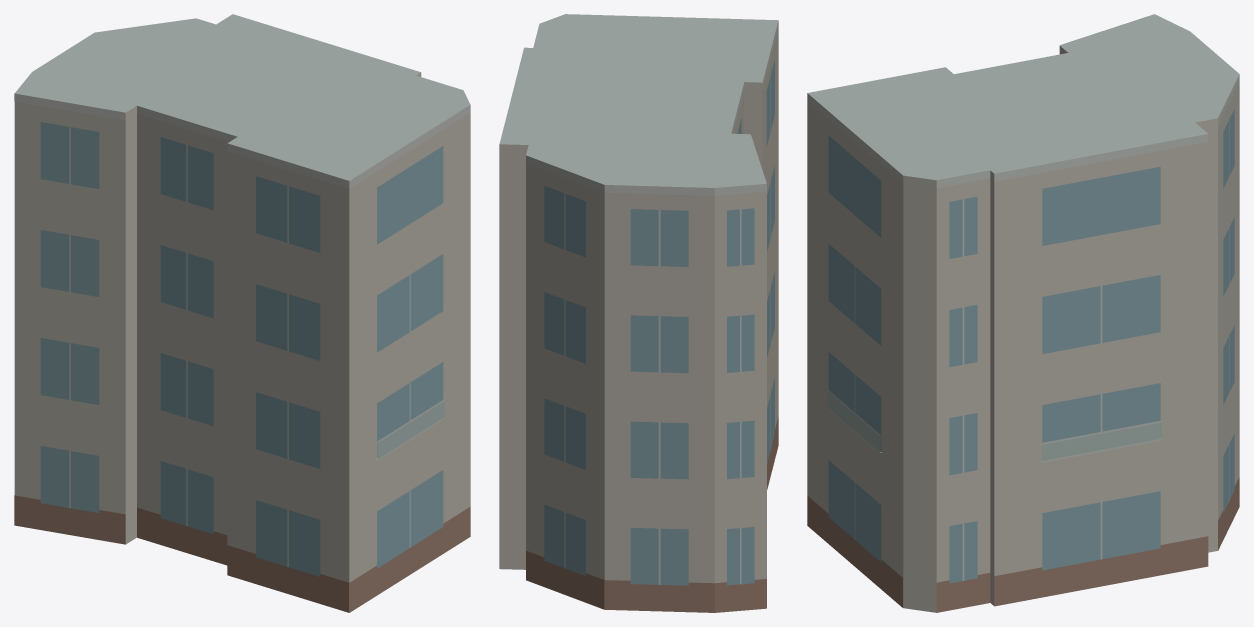
The model's file is survey-upis-32616901.glb.
3 renders of one model, left to right at view 1: azimuth 30°, elevation 25°; view 2: azimuth 150°, elevation 25°; view 3: azimuth 270°, elevation 25°, orthographic.
Parts seen in each view (by area): view 1: survey-upis-32616901.tmp; view 2: survey-upis-32616901.tmp; view 3: survey-upis-32616901.tmp.
Part boxes in pixels (bbox=[...]): survey-upis-32616901.tmp: bbox=[14, 14, 470, 612]; survey-upis-32616901.tmp: bbox=[499, 14, 778, 612]; survey-upis-32616901.tmp: bbox=[807, 14, 1239, 612].
Size of the model in its own units: 10.89 by 13.2 by 11.97.
